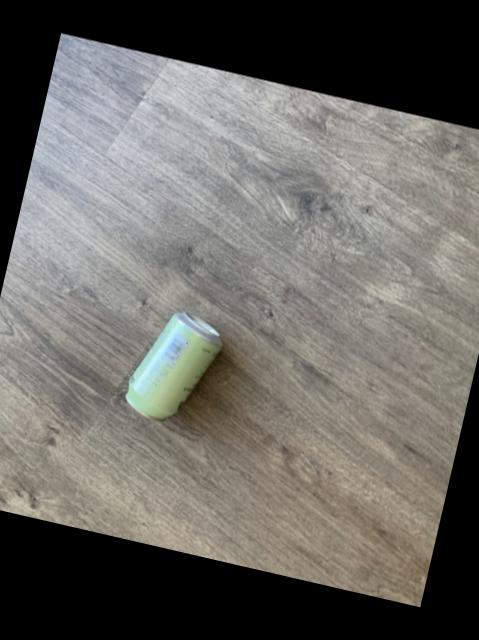metal: (126, 314, 221, 421)
